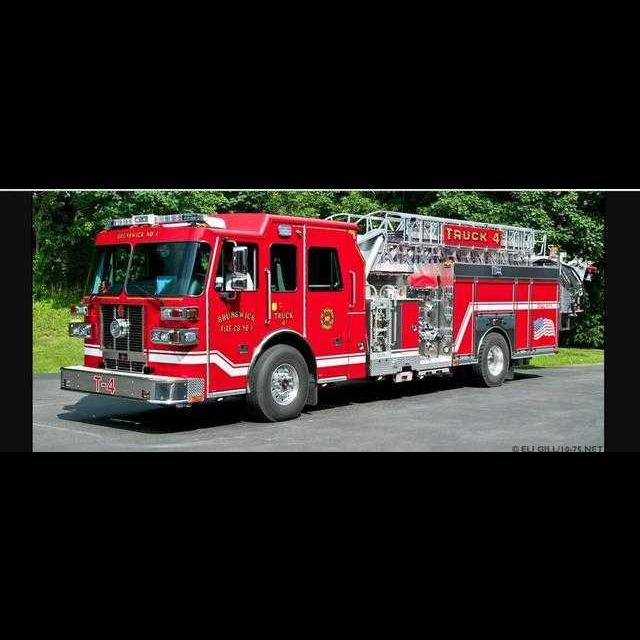emergency: (59, 210, 563, 420)
